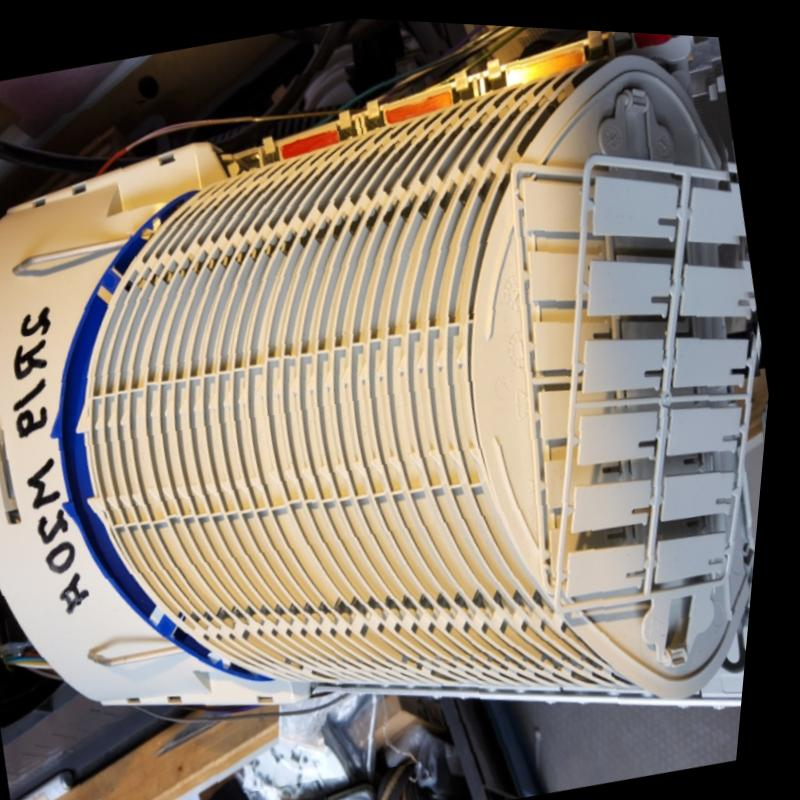NT-Muffen: (0, 25, 774, 705)
